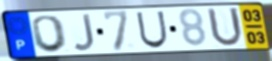7: (102, 10, 132, 54)
8: (177, 8, 211, 50)
J: (71, 12, 97, 53)
O: (30, 14, 70, 54)
U: (205, 7, 245, 49), (135, 10, 170, 50)
